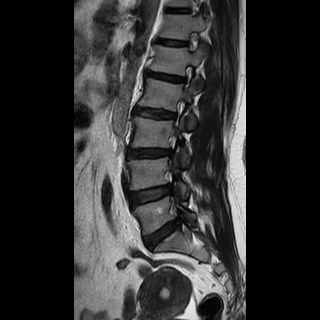LFS0: (164, 95, 191, 133), (177, 59, 200, 92)
